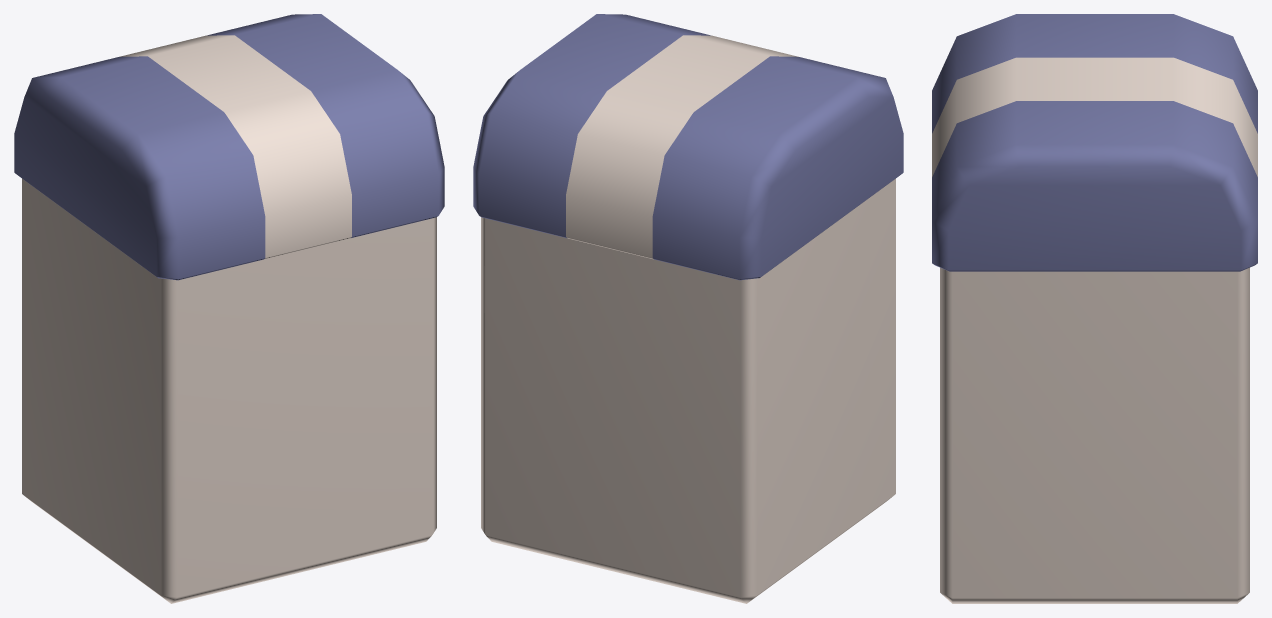
Rendered from Chest_1.glb.
The picture shows the model from 3 angles, left to right: view 1: azimuth 30°, elevation 25°; view 2: azimuth 150°, elevation 25°; view 3: azimuth 270°, elevation 25°; orthographic projection. The views are drawn at different scales.
Parts seen in each view (by area): view 1: Chest_1; view 2: Chest_1; view 3: Chest_1.
Part boxes in pixels (x1=…): Chest_1: x1=14, y1=14, x2=444, y2=603; Chest_1: x1=473, y1=14, x2=903, y2=603; Chest_1: x1=932, y1=14, x2=1257, y2=603.
Size of the model in its own units: 0.1627 by 0.2416 by 0.1548.
Materials: 1 (1 with a texture image).
